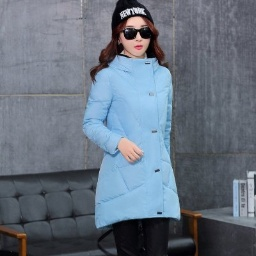face: (96, 14, 171, 62)
